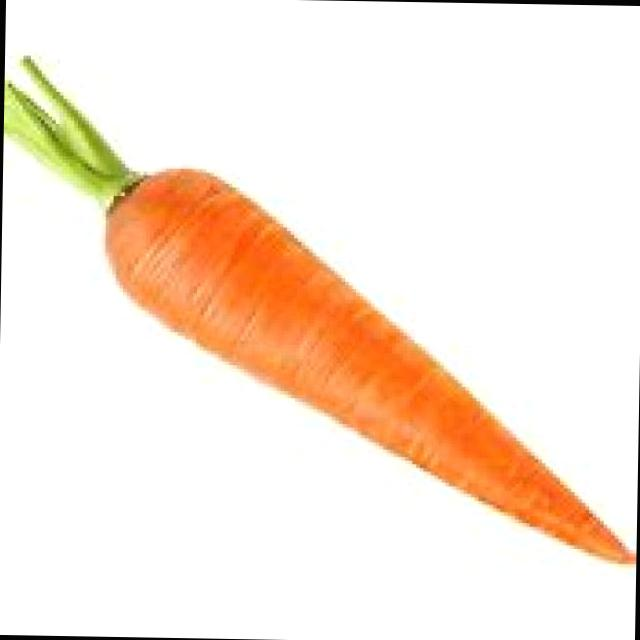carrot: (88, 154, 640, 572)
